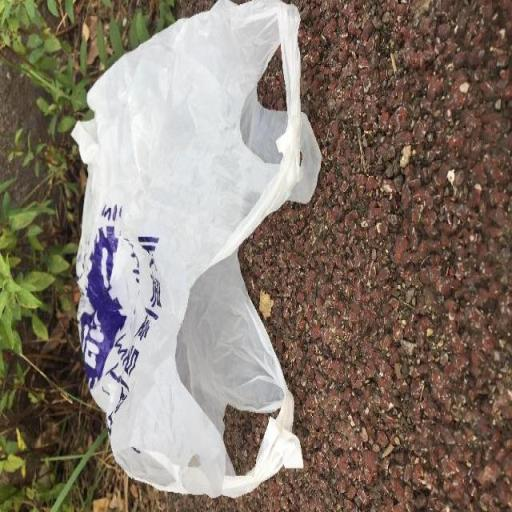plastic-bag: (67, 0, 323, 499)
